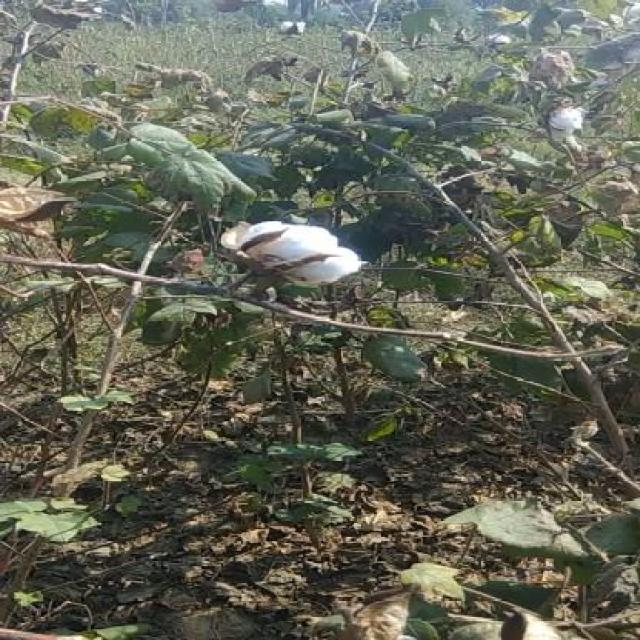cotton_ready: (200, 203, 366, 314)
